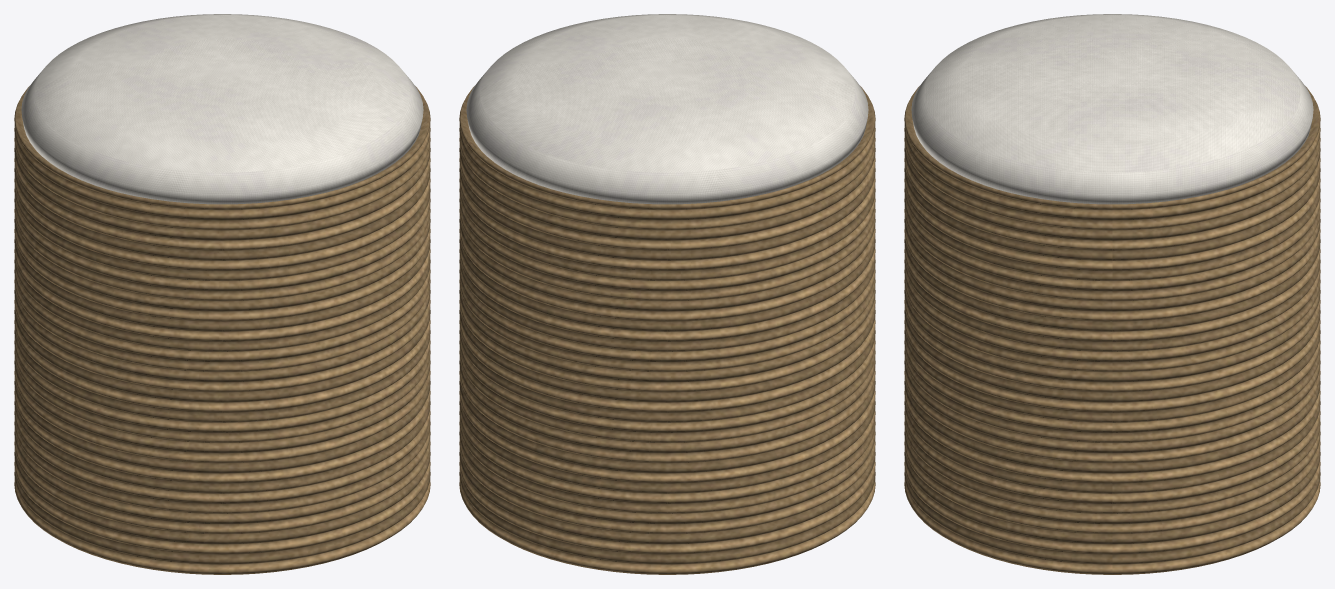
Rendered from mdm-240085.glb.
The picture shows the model from 3 angles, left to right: view 1: azimuth 30°, elevation 25°; view 2: azimuth 150°, elevation 25°; view 3: azimuth 270°, elevation 25°; orthographic projection.
Parts seen in each view (by area): view 1: mdm-240085; view 2: mdm-240085; view 3: mdm-240085.
Boxes of the visible parts, x1,y1,x2,y2 form: mdm-240085: [14, 14, 430, 574]; mdm-240085: [459, 14, 875, 574]; mdm-240085: [904, 14, 1320, 574].
Bounding box in the file's own units: 0.41 × 0.455 × 0.41.
Materials: 2 (2 with a texture image).
